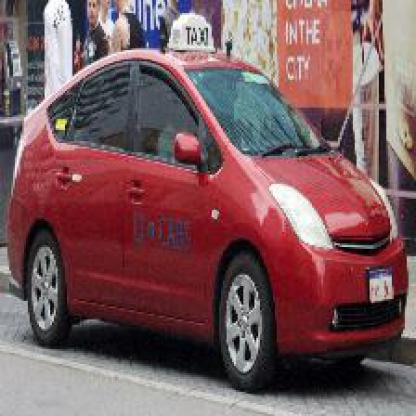not_emergency: (7, 76, 412, 385)
